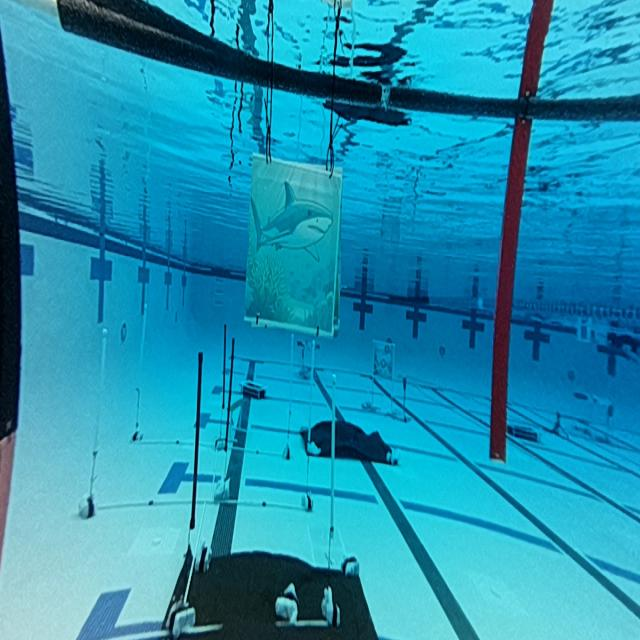round_nose: (248, 155, 336, 332)
